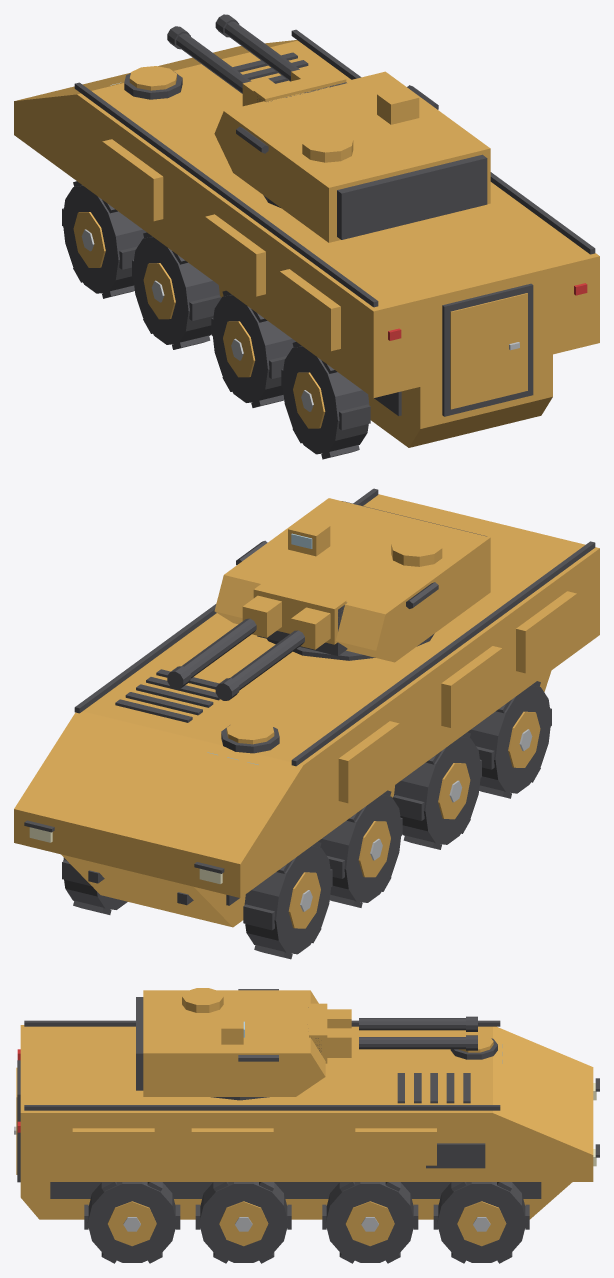
The model's file is amv.glb.
The picture shows the model from 3 angles, top to bottom: view 1: azimuth 30°, elevation 25°; view 2: azimuth 150°, elevation 25°; view 3: azimuth 270°, elevation 25°; orthographic projection. The views are drawn at different scales.
Parts seen in each view (by area): view 1: body, turret, wheel_RL, wheel_FL2, wheel_RL2, wheel_FL, gun; view 2: body, turret, gun, wheel_FL, wheel_RL2, wheel_FL2, wheel_RL, wheel_FR; view 3: body, turret, wheel_FR, wheel_RR, wheel_FR2, wheel_RR2, gun.
Boxes of the visible parts, x1,y1,x2,y2 form: body: (14,29,599,447); turret: (214,71,490,242); wheel_RL: (281,342,370,459); wheel_FL2: (132,232,221,349); wheel_RL2: (211,290,295,407); wheel_FL: (62,181,146,298); gun: (167,14,346,106); body: (14,488,599,927); turret: (214,498,490,662); gun: (167,581,346,700); wheel_FL: (243,841,332,959); wheel_RL2: (392,732,481,849); wheel_FL2: (318,790,402,907); wheel_RL: (467,681,551,798); wheel_FR: (62,857,127,914); body: (14,1020,599,1219); turret: (136,988,325,1096); wheel_FR: (433,1182,529,1263); wheel_RR: (84,1182,180,1263); wheel_FR2: (322,1182,418,1263); wheel_RR2: (195,1182,291,1263); gun: (309,1003,477,1063).
Size of the model in its own units: 3.04 by 3.22 by 7.88.
